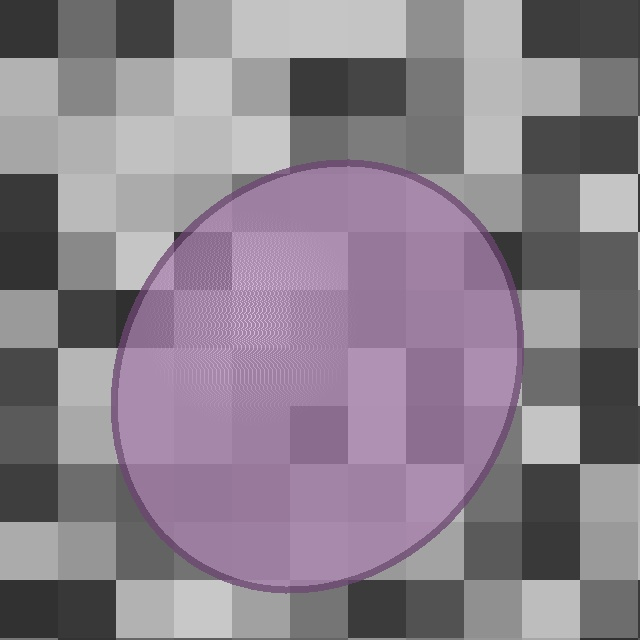lens: (115, 162, 519, 590)
